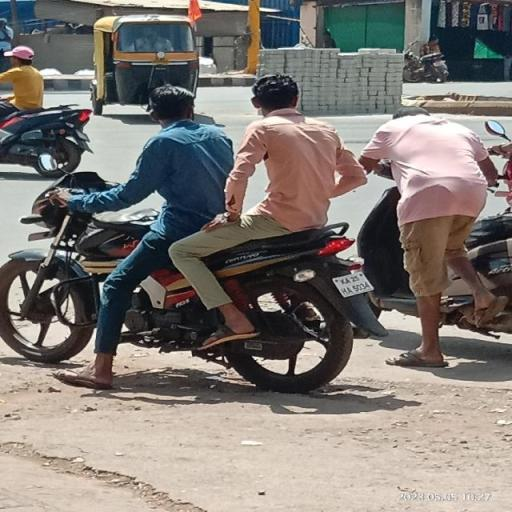bike: (0, 70, 384, 396)
numberplate: (331, 264, 375, 300)
withouthelmet: (256, 74, 298, 112), (150, 86, 191, 122)
